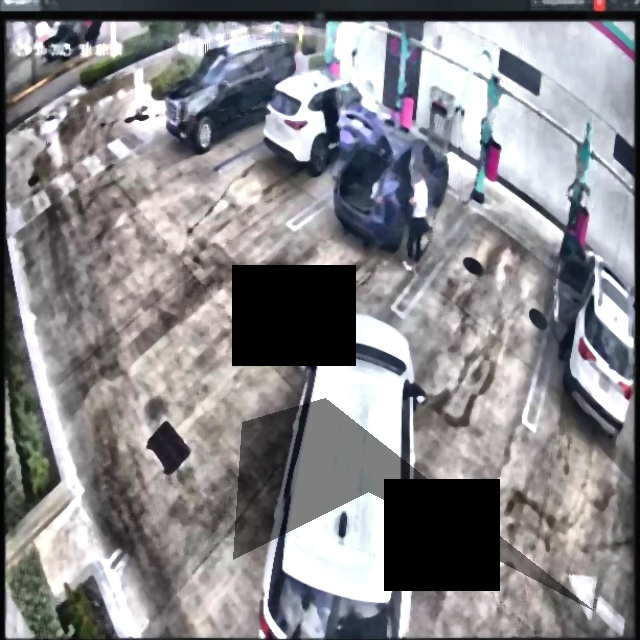Car: (260, 312, 427, 640), (332, 99, 449, 250), (265, 68, 380, 176)
